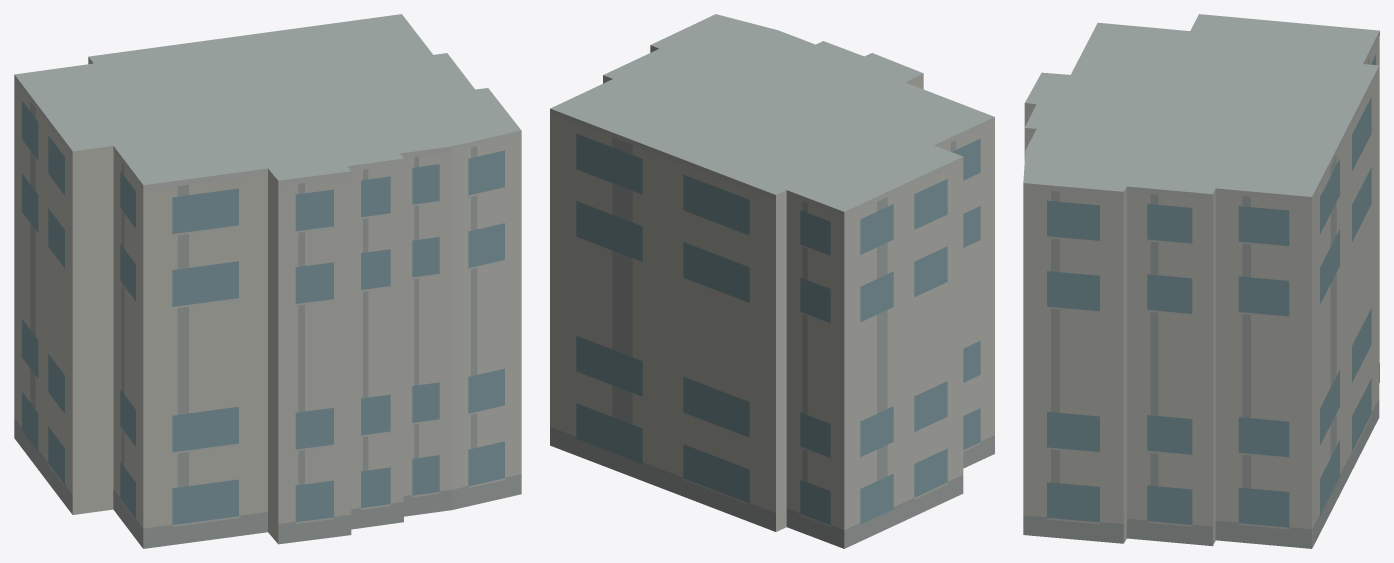
Rendered from survey-upis-33012006.glb.
3 renders of one model, left to right at view 1: azimuth 30°, elevation 25°; view 2: azimuth 150°, elevation 25°; view 3: azimuth 270°, elevation 25°, orthographic. The views are drawn at different scales.
Visible parts, largest first — view 1: survey-upis-33012006.tmp; view 2: survey-upis-33012006.tmp; view 3: survey-upis-33012006.tmp.
Boxes of the visible parts, bbox=[...] form: survey-upis-33012006.tmp: bbox=[14, 14, 521, 548]; survey-upis-33012006.tmp: bbox=[550, 14, 994, 548]; survey-upis-33012006.tmp: bbox=[1023, 14, 1379, 548].
Bounding box in the file's own units: 17.63 × 15.8 × 14.51.
